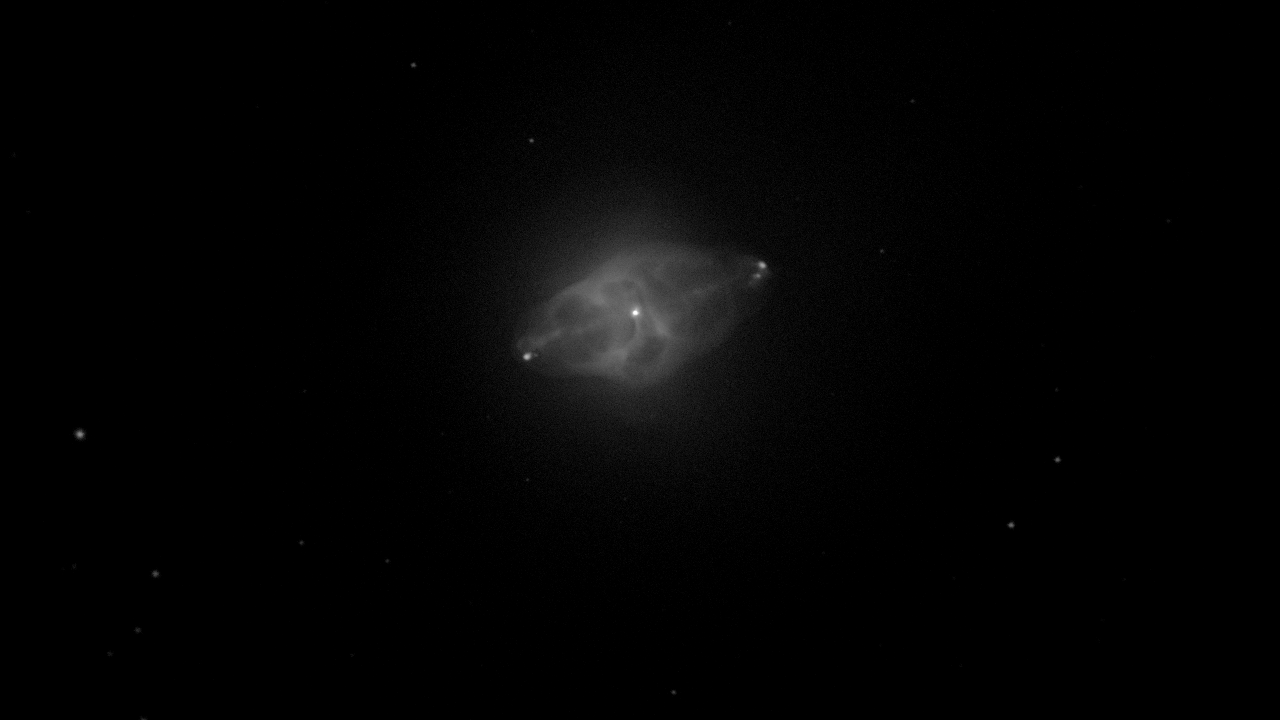Cavity: (669, 294, 731, 334), (664, 263, 738, 290), (625, 259, 677, 296), (540, 337, 597, 364), (549, 297, 598, 324), (625, 335, 669, 365), (600, 278, 644, 301), (580, 328, 614, 352), (611, 316, 637, 344), (734, 290, 767, 312)
Galaxy: (508, 240, 774, 388)
